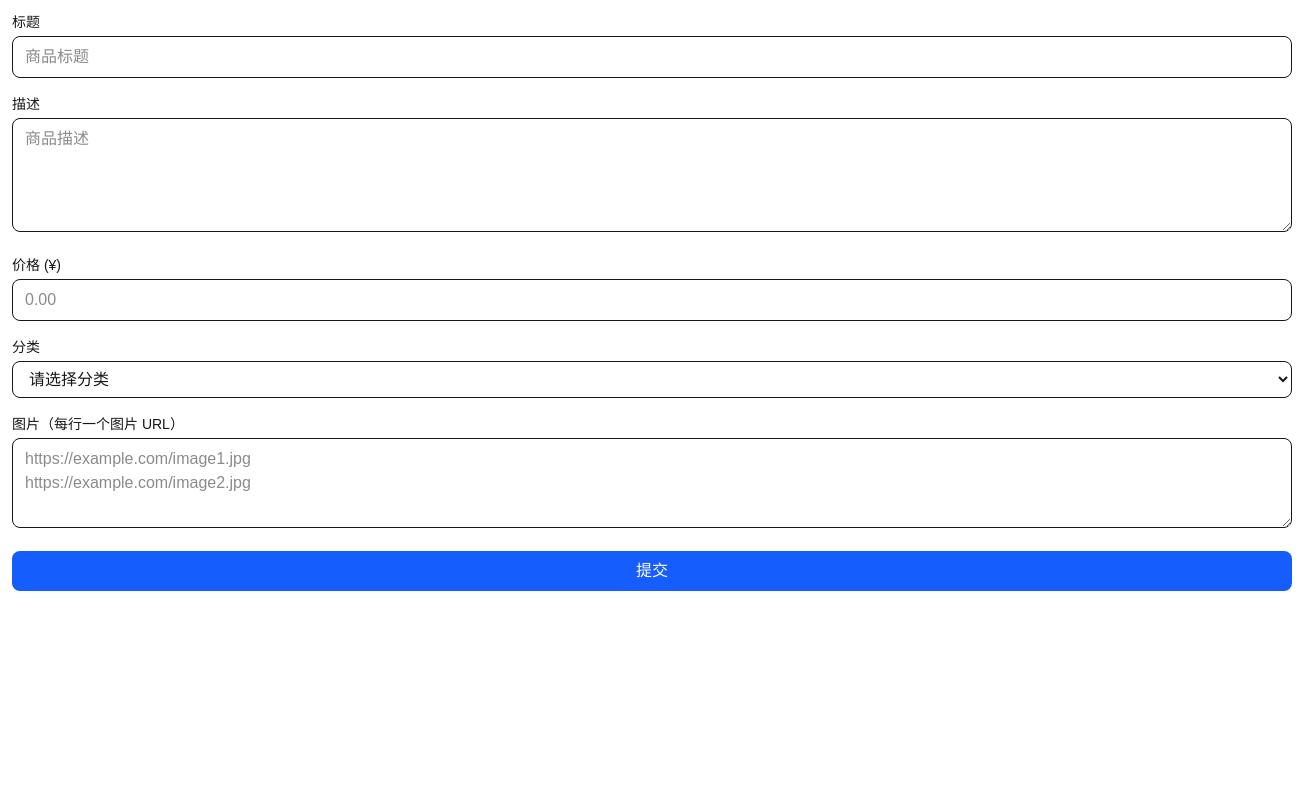
Test: GoodsForm › shows validation error when price is invalid
This screenshot has width=1304, height=812.
Type "Test" into the field with placeholder "商品标题".
click(652, 57); type("Test")  # box left=12, top=36, right=1292, bottom=78
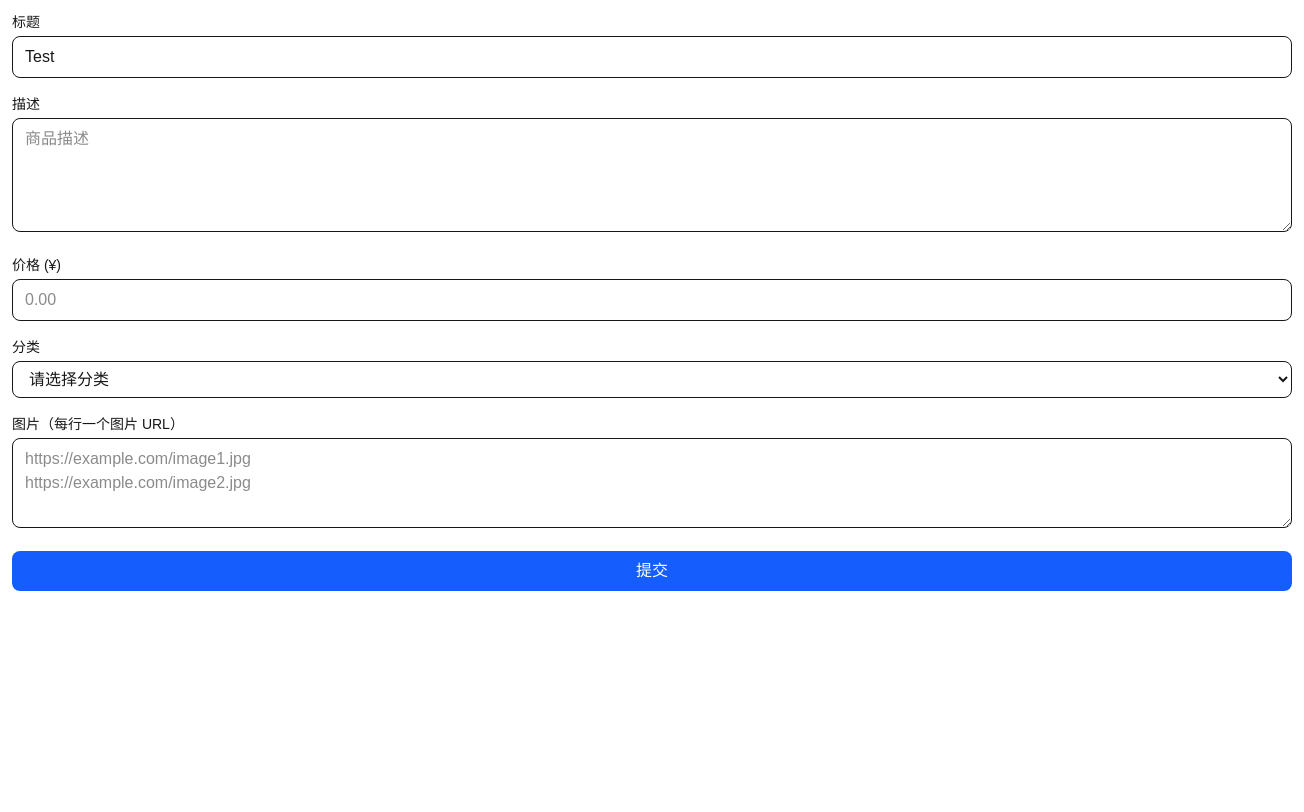
Type "Test desc" into the text box with placeholder "商品描述".
click(652, 175); type("Test desc")  # box left=12, top=118, right=1292, bottom=232
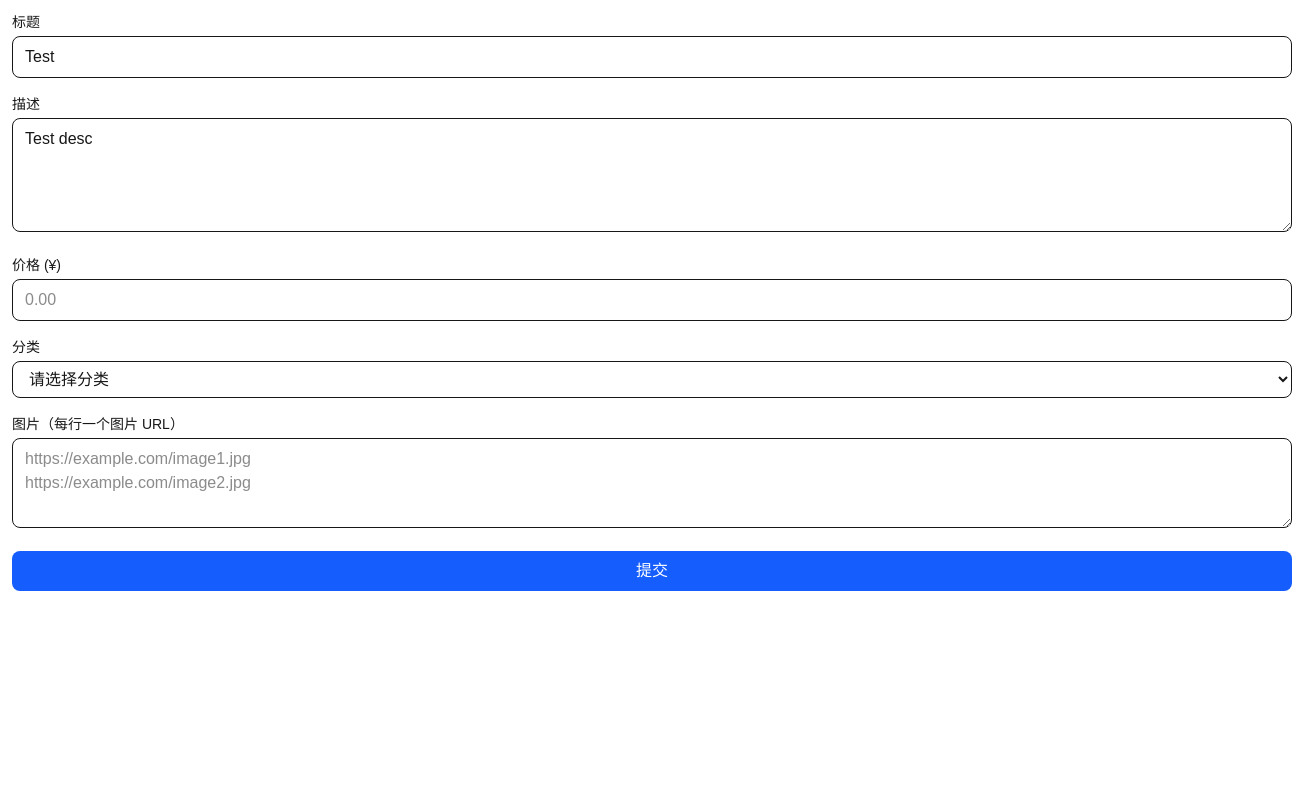
Type "-1" into the number field with placeholder "0.00".
click(652, 300); type("-1")  # box left=12, top=279, right=1292, bottom=321
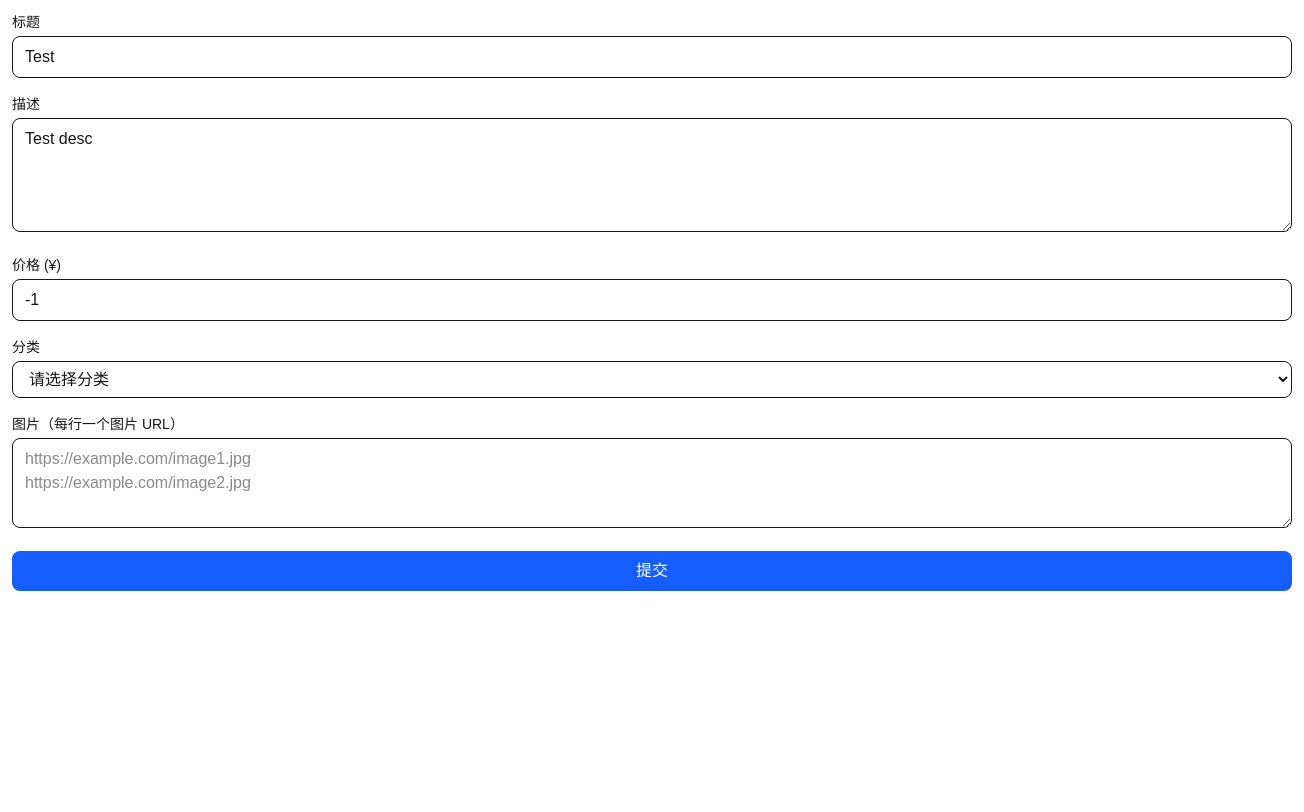
Submit the form "提交"
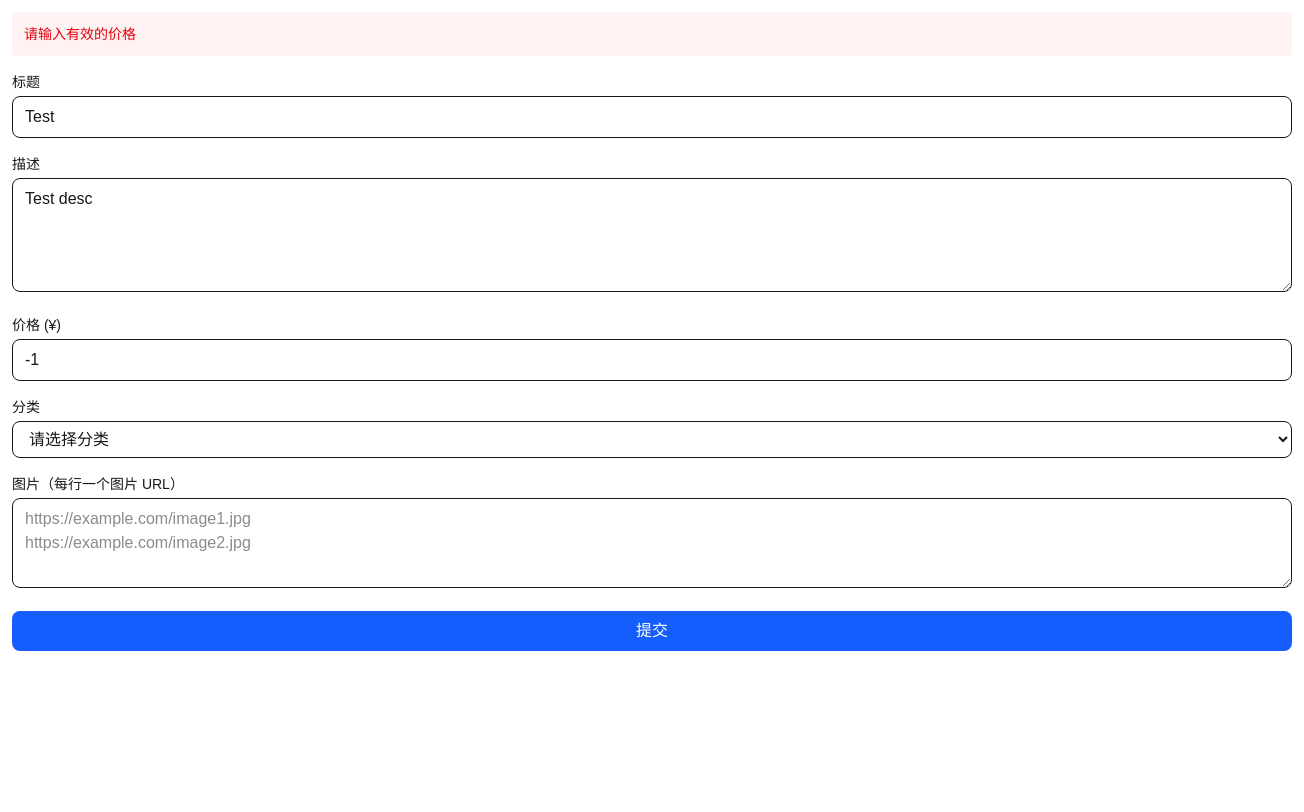
Now the text "请输入有效的价格" is shown, box left=12, top=12, right=1292, bottom=56
